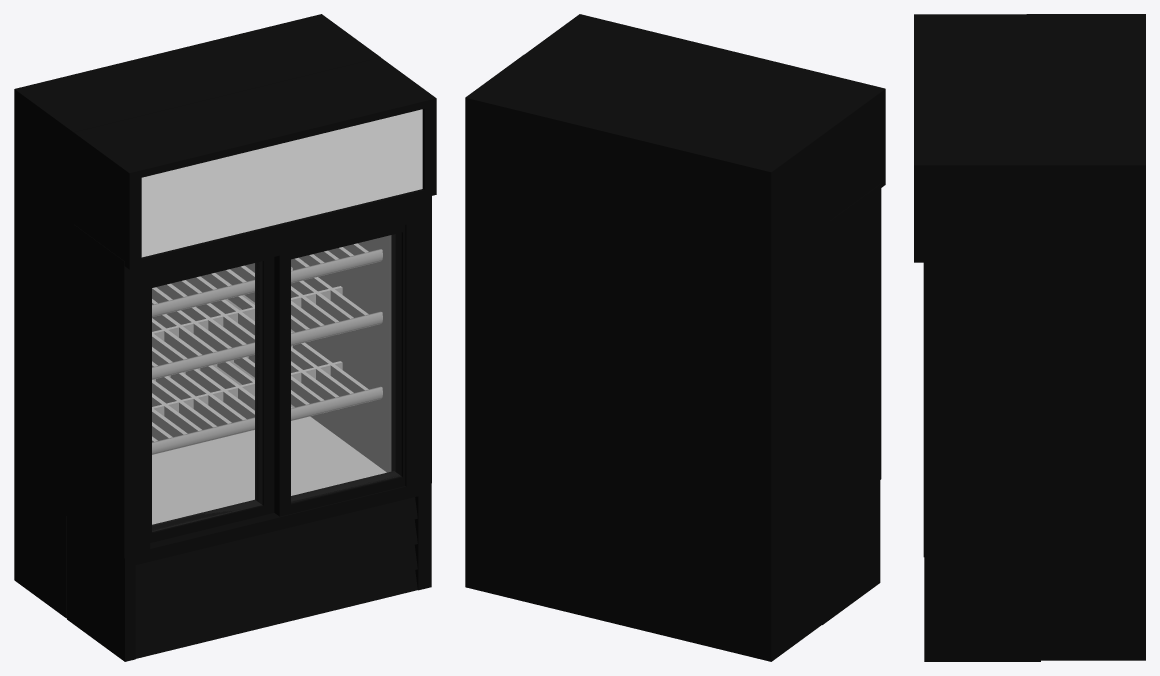
The model's file is cooler.glb.
3 renders of one model, left to right at view 1: azimuth 30°, elevation 25°; view 2: azimuth 150°, elevation 25°; view 3: azimuth 270°, elevation 25°, orthographic.
Visible parts, largest first — view 1: polySurface10, polySurface12, polySurface11, pCube40, pCube39, pCube38; view 2: polySurface10, polySurface12; view 3: polySurface10, polySurface12.
Part boxes in pixels (x1,y1,x2,y2): polySurface10: (14, 14, 431, 661); polySurface12: (73, 57, 436, 269); polySurface11: (141, 109, 422, 257); pCube40: (152, 342, 382, 454); pCube39: (152, 268, 382, 379); pCube38: (152, 243, 382, 317); polySurface10: (465, 54, 881, 661); polySurface12: (524, 14, 885, 220); polySurface10: (923, 14, 1145, 661); polySurface12: (914, 14, 1026, 262).
Size of the model in its own units: 52.05 by 80.06 by 33.72.
4 materials, 1 textured.
